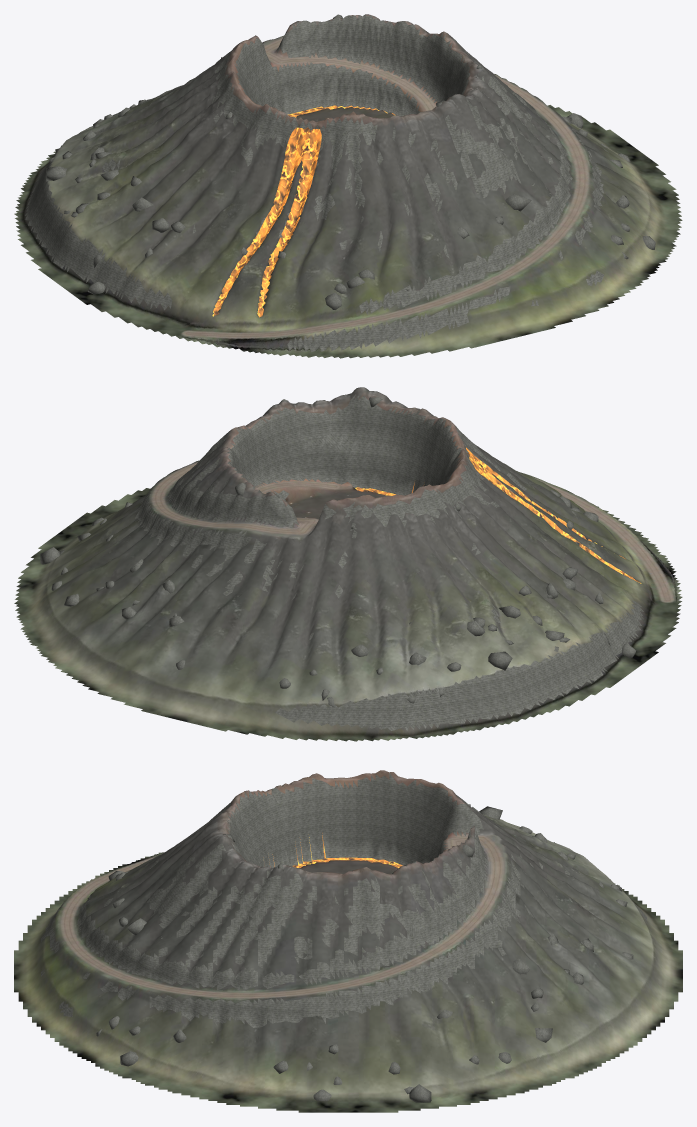
The model's file is volcano_titan_lod2.glb.
3 renders of one model, top to bottom at view 1: azimuth 30°, elevation 25°; view 2: azimuth 150°, elevation 25°; view 3: azimuth 270°, elevation 25°, orthographic.
Visible parts, largest first — view 1: volcano_lod2, volcano_lava_lod2; view 2: volcano_lod2, volcano_lava_lod2; view 3: volcano_lod2, volcano_lava_lod2.
Part boxes in pixels (x1,y1,x2,y2): volcano_lod2: (14,14,682,358); volcano_lava_lod2: (212,105,395,317); volcano_lod2: (14,387,682,741); volcano_lava_lod2: (355,447,641,583); volcano_lod2: (14,770,682,1112); volcano_lava_lod2: (264,833,402,868).
Bounding box in the file's own units: 296 × 77.7 × 296.
Materials: 3 (3 with a texture image).
